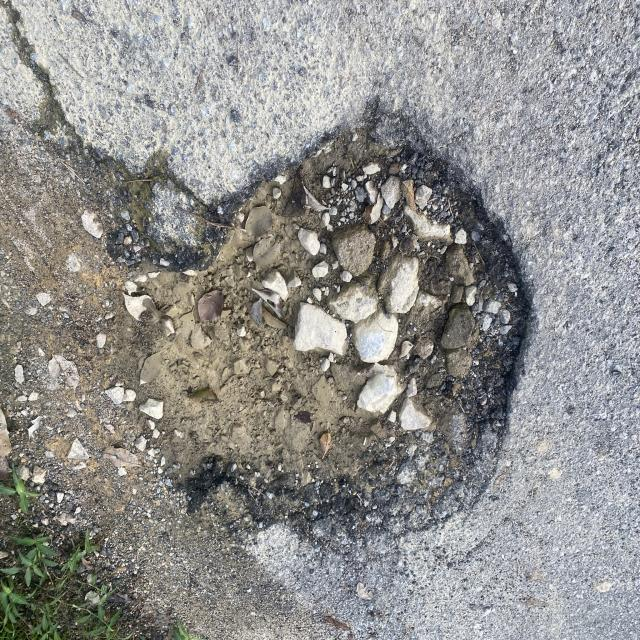pothole: (105, 114, 590, 589)
